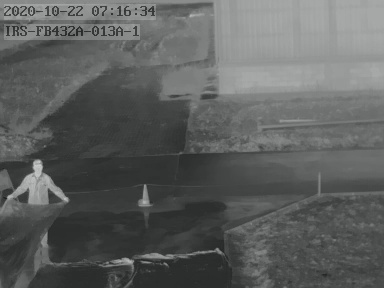person: (8, 159, 69, 204)
